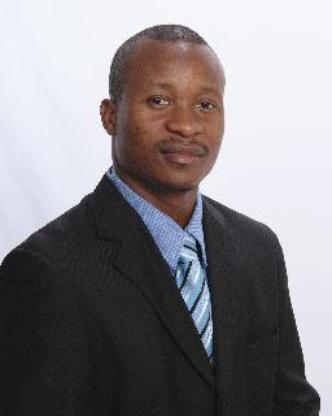person: (0, 18, 320, 416)
